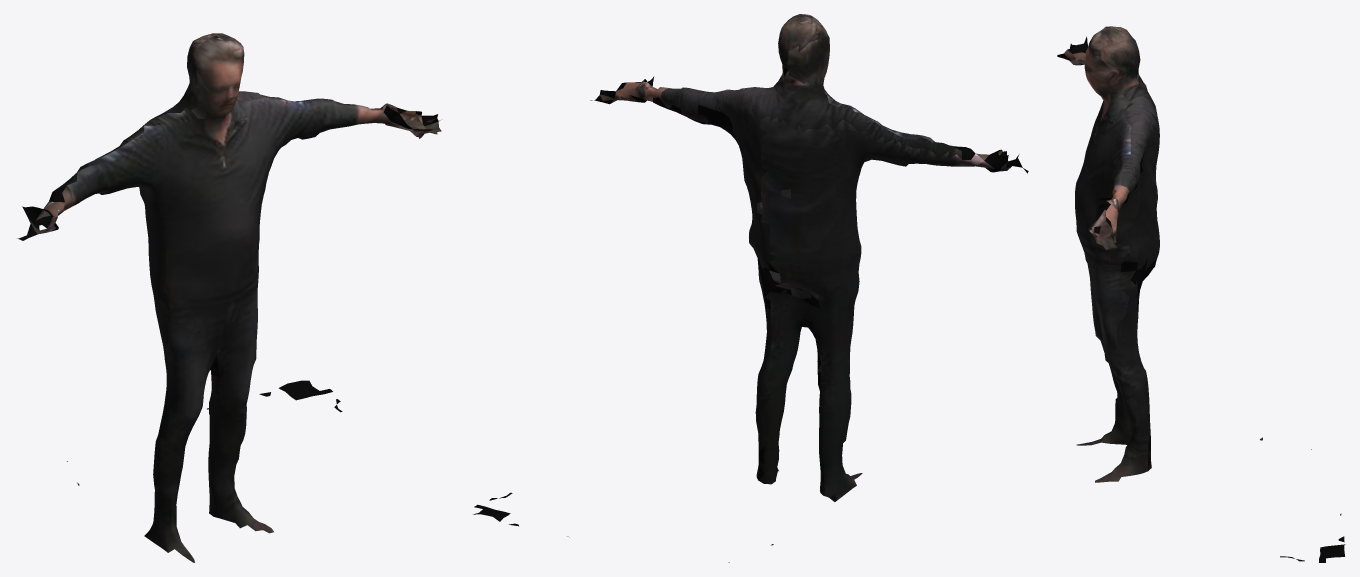
The model's file is ArthurTPose.obj.
3 views of the same model, side by side, from view 1: azimuth 30°, elevation 25°; view 2: azimuth 150°, elevation 25°; view 3: azimuth 270°, elevation 25° (orthographic). The views are drawn at different scales.
Bounding box in the file's own units: 1.88 × 2 × 1.18.
1 material, 1 textured.
